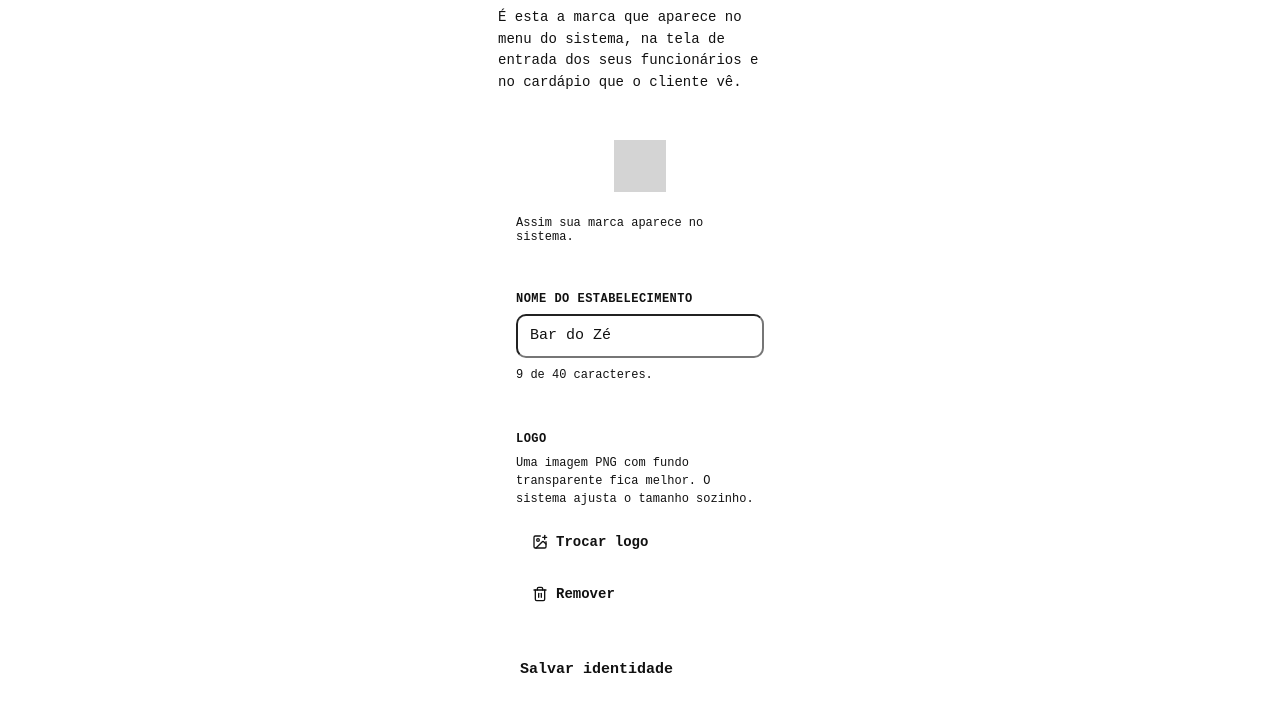
Test case: IdentidadeTab, logo › remover o logo pede confirmação antes (ação destrutiva confirma)
Click the button "Remover" at [573, 594], box [516,572,631,616]
(page scrolled)
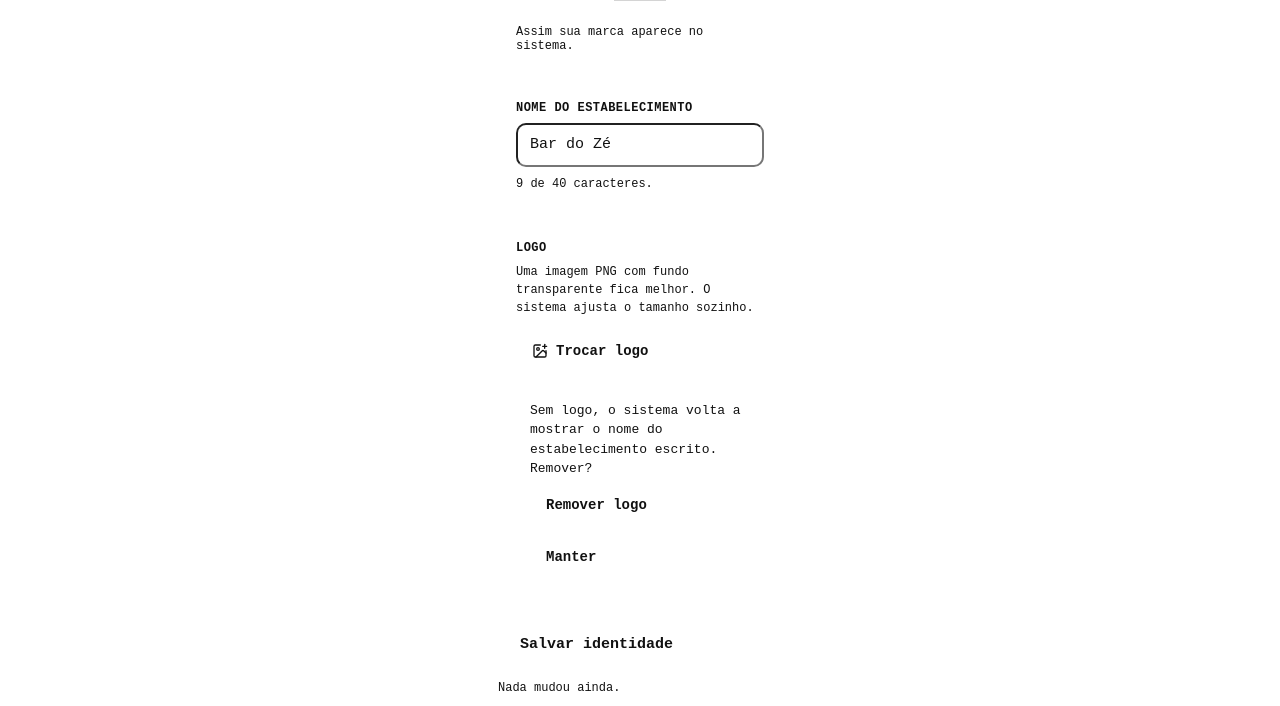
Check: the dialog named "remover o logo" is shown, box [530,403,741,579]
Click the button "Remover logo" at [596, 505], box [530,483,663,527]
(page scrolled)
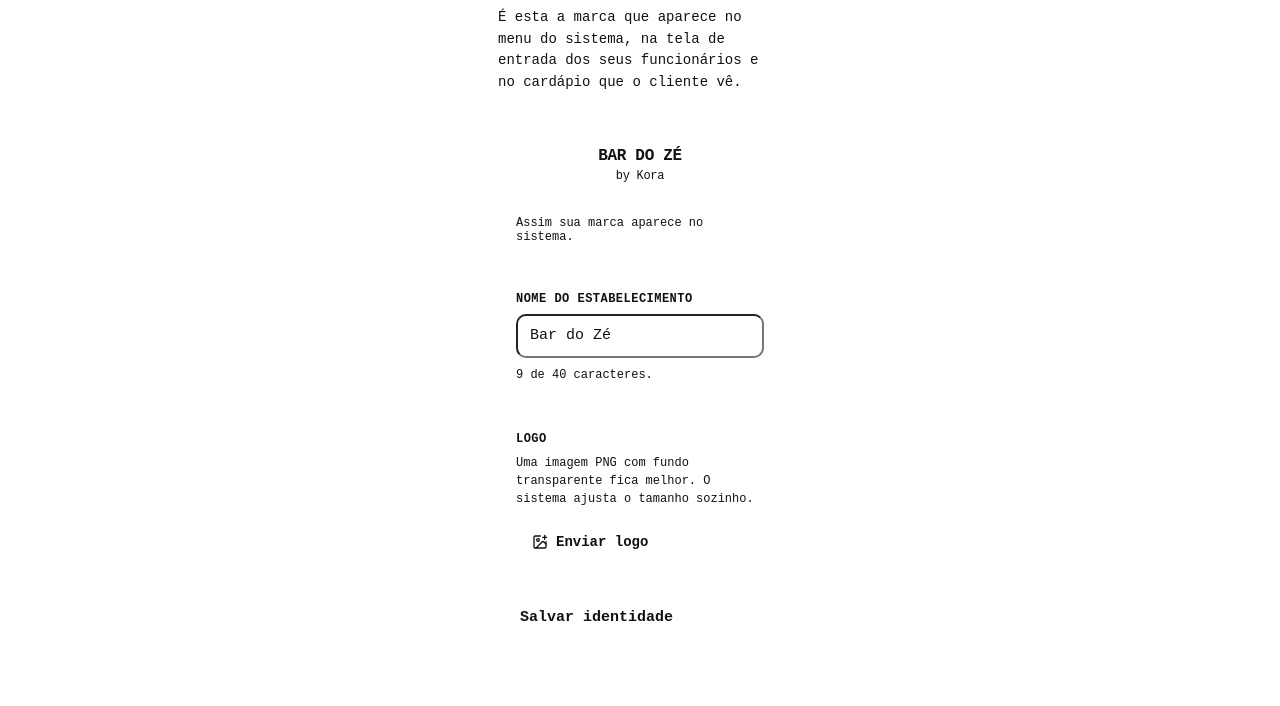
Check: the text "BAR DO ZÉ" is shown, box [598,147,682,165]
